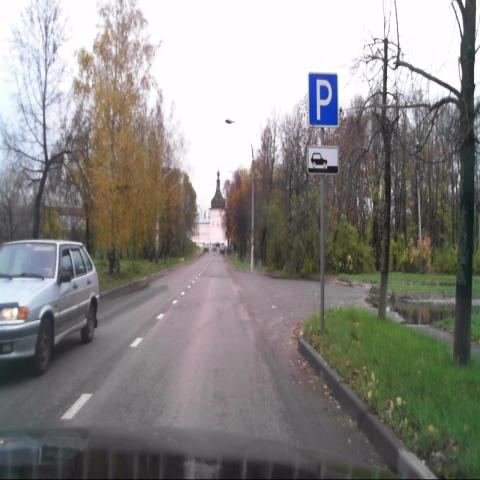6_4: (309, 72, 339, 127)
8_6_4: (309, 146, 339, 172)
